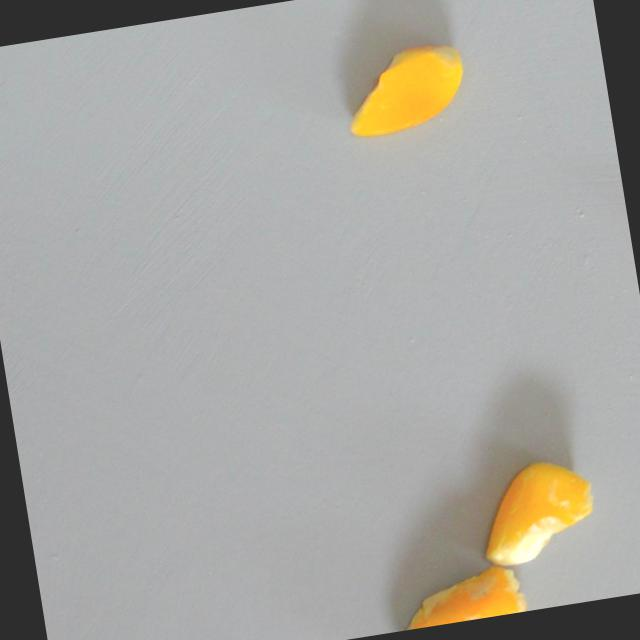dañado: (331, 33, 478, 144)
pelicula: (469, 451, 606, 573)
punto_negro: (379, 560, 532, 633)
